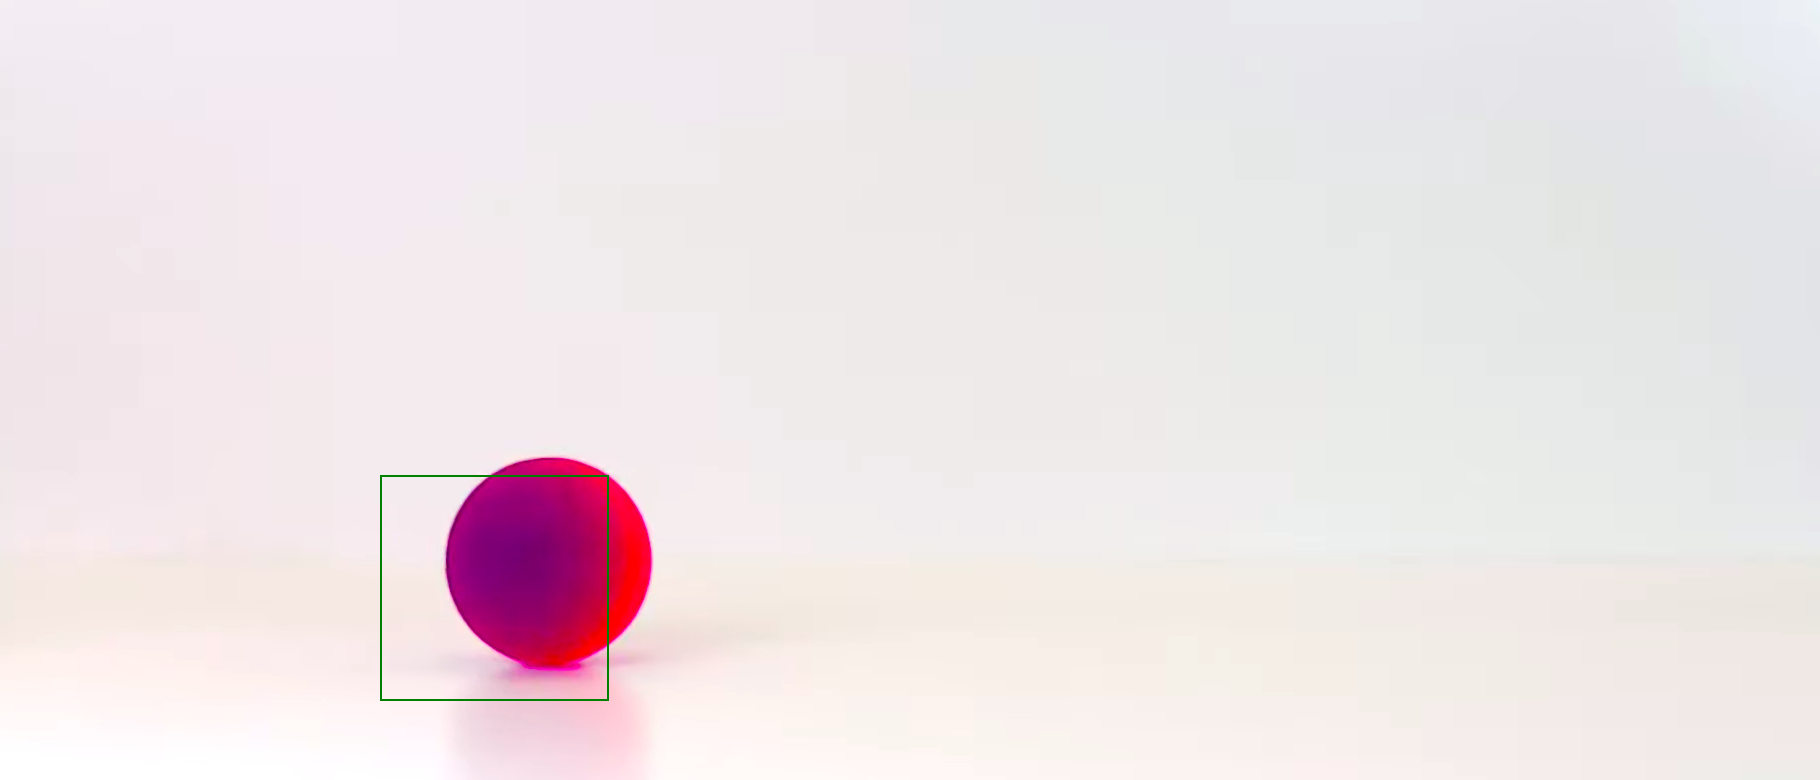Circle: (442, 456, 653, 669)
